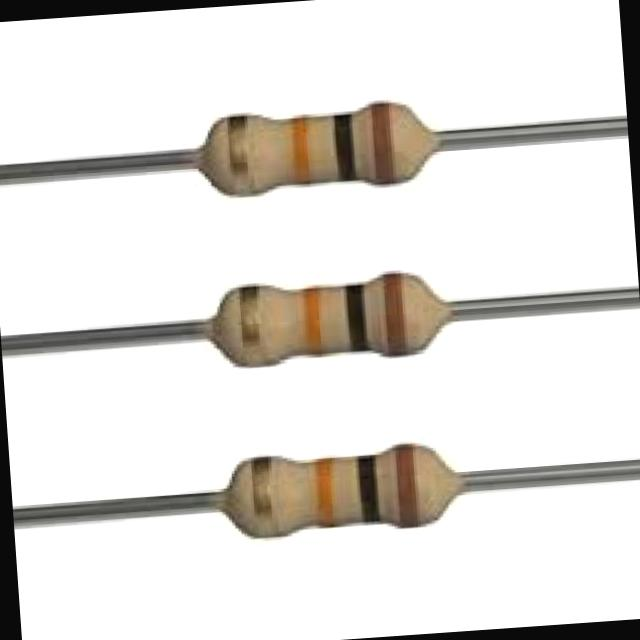Resistor: (199, 272, 455, 366), (217, 443, 466, 537), (195, 102, 441, 195)
black: (331, 111, 355, 186), (346, 283, 367, 354), (357, 455, 378, 524)
brown: (378, 272, 407, 357), (368, 102, 394, 189), (394, 442, 419, 529)
gold: (224, 113, 251, 199), (236, 285, 262, 368), (249, 454, 272, 542)
orange: (311, 459, 332, 529), (301, 286, 319, 362), (287, 120, 308, 185)
